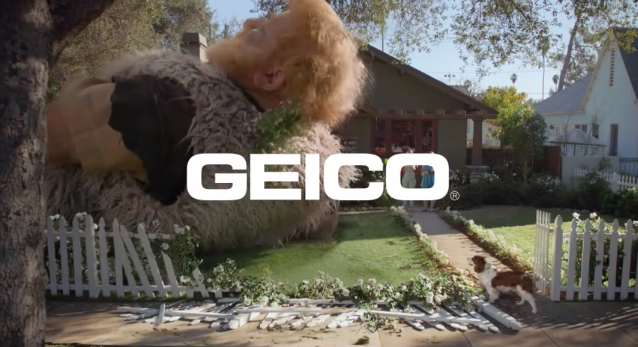geico: (179, 147, 469, 208)
